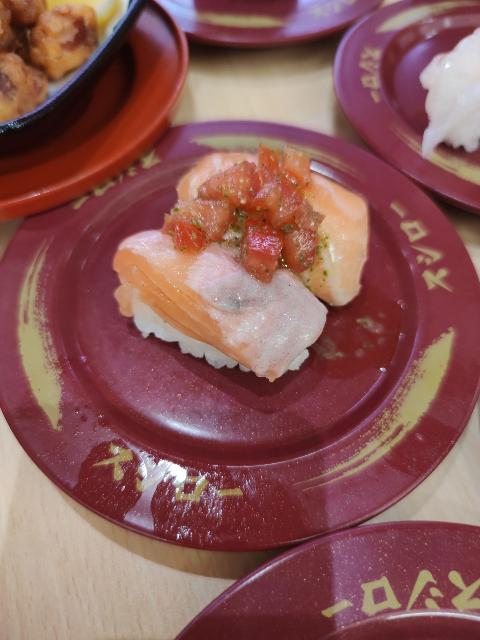janred: (40, 147, 437, 510), (154, 538, 480, 640), (339, 2, 480, 204), (149, 0, 360, 56)
